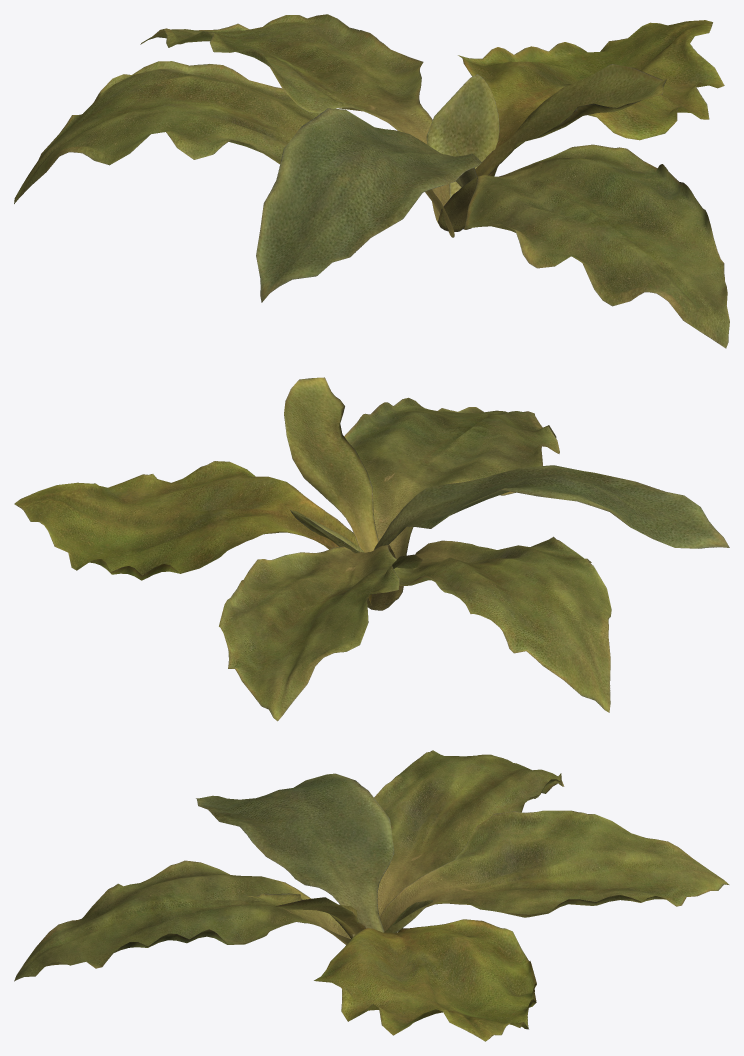
The model's file is crystalline_iceplant_03.glb.
3 views of the same model, one above another, from view 1: azimuth 30°, elevation 25°; view 2: azimuth 150°, elevation 25°; view 3: azimuth 270°, elevation 25° (orthographic). The views are drawn at different scales.
Parts seen in each view (by area): view 1: crystalline_iceplant; view 2: crystalline_iceplant; view 3: crystalline_iceplant.
Part boxes in pixels (x1=…): crystalline_iceplant: x1=14, y1=14, x2=729, y2=348; crystalline_iceplant: x1=14, y1=377, x2=729, y2=721; crystalline_iceplant: x1=14, y1=750, x2=729, y2=1041.
Bounding box in the file's own units: 0.2802 × 0.0659 × 0.3063.
1 material, 1 textured.
